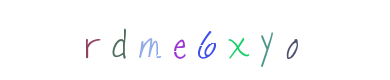6: (158, 0, 238, 80)
D: (134, 0, 214, 80)
E: (155, 0, 235, 80)
M: (139, 0, 219, 80)
O: (198, 0, 278, 80)
R: (120, 0, 200, 80)
X: (166, 0, 246, 80)
Y: (185, 0, 265, 80)
